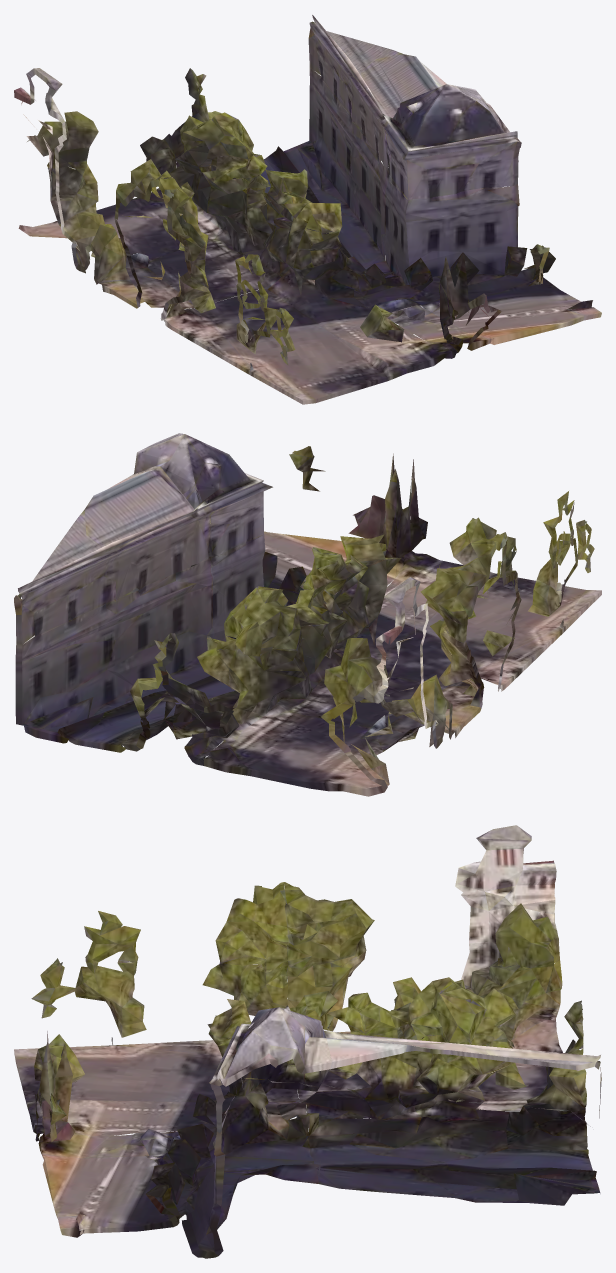
3 renders of one model, top to bottom at view 1: azimuth 30°, elevation 25°; view 2: azimuth 150°, elevation 25°; view 3: azimuth 270°, elevation 25°, orthographic. The views are drawn at different scales.
Visible parts, largest first — view 1: Mesh_0; view 2: Mesh_0; view 3: Mesh_0.
Part boxes in pixels (left/top/right/bottom): Mesh_0: left=14, top=15, right=601, bottom=404; Mesh_0: left=14, top=433, right=601, bottom=796; Mesh_0: left=14, top=825, right=601, bottom=1258.
Size of the model in its own units: 66.58 by 37.48 by 82.53.
1 material, 1 textured.
